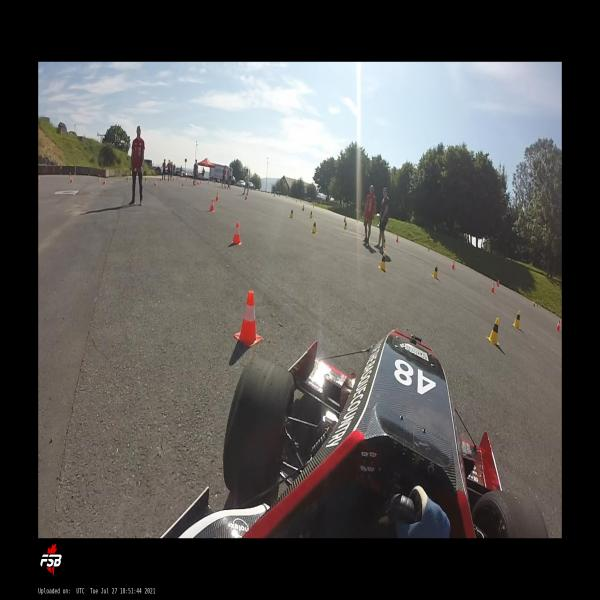orange_cone: (234, 290, 262, 347), (231, 223, 242, 245), (210, 200, 214, 212), (556, 320, 560, 332), (491, 282, 494, 293), (216, 192, 219, 202), (302, 204, 305, 212), (103, 178, 106, 185), (452, 260, 454, 270), (396, 234, 398, 243), (343, 216, 346, 222), (497, 279, 499, 287), (70, 176, 72, 183), (154, 180, 156, 186), (245, 194, 247, 200), (534, 301, 535, 308), (183, 181, 184, 187), (38, 176, 39, 181)
yellow_cone: (486, 317, 501, 346), (512, 310, 520, 329), (378, 251, 386, 270), (311, 220, 317, 234), (432, 265, 438, 278), (383, 237, 386, 247), (290, 209, 293, 218), (344, 221, 347, 230), (310, 211, 312, 218), (145, 177, 147, 183), (69, 173, 71, 178), (160, 178, 162, 183), (126, 177, 128, 181), (98, 175, 99, 180)
